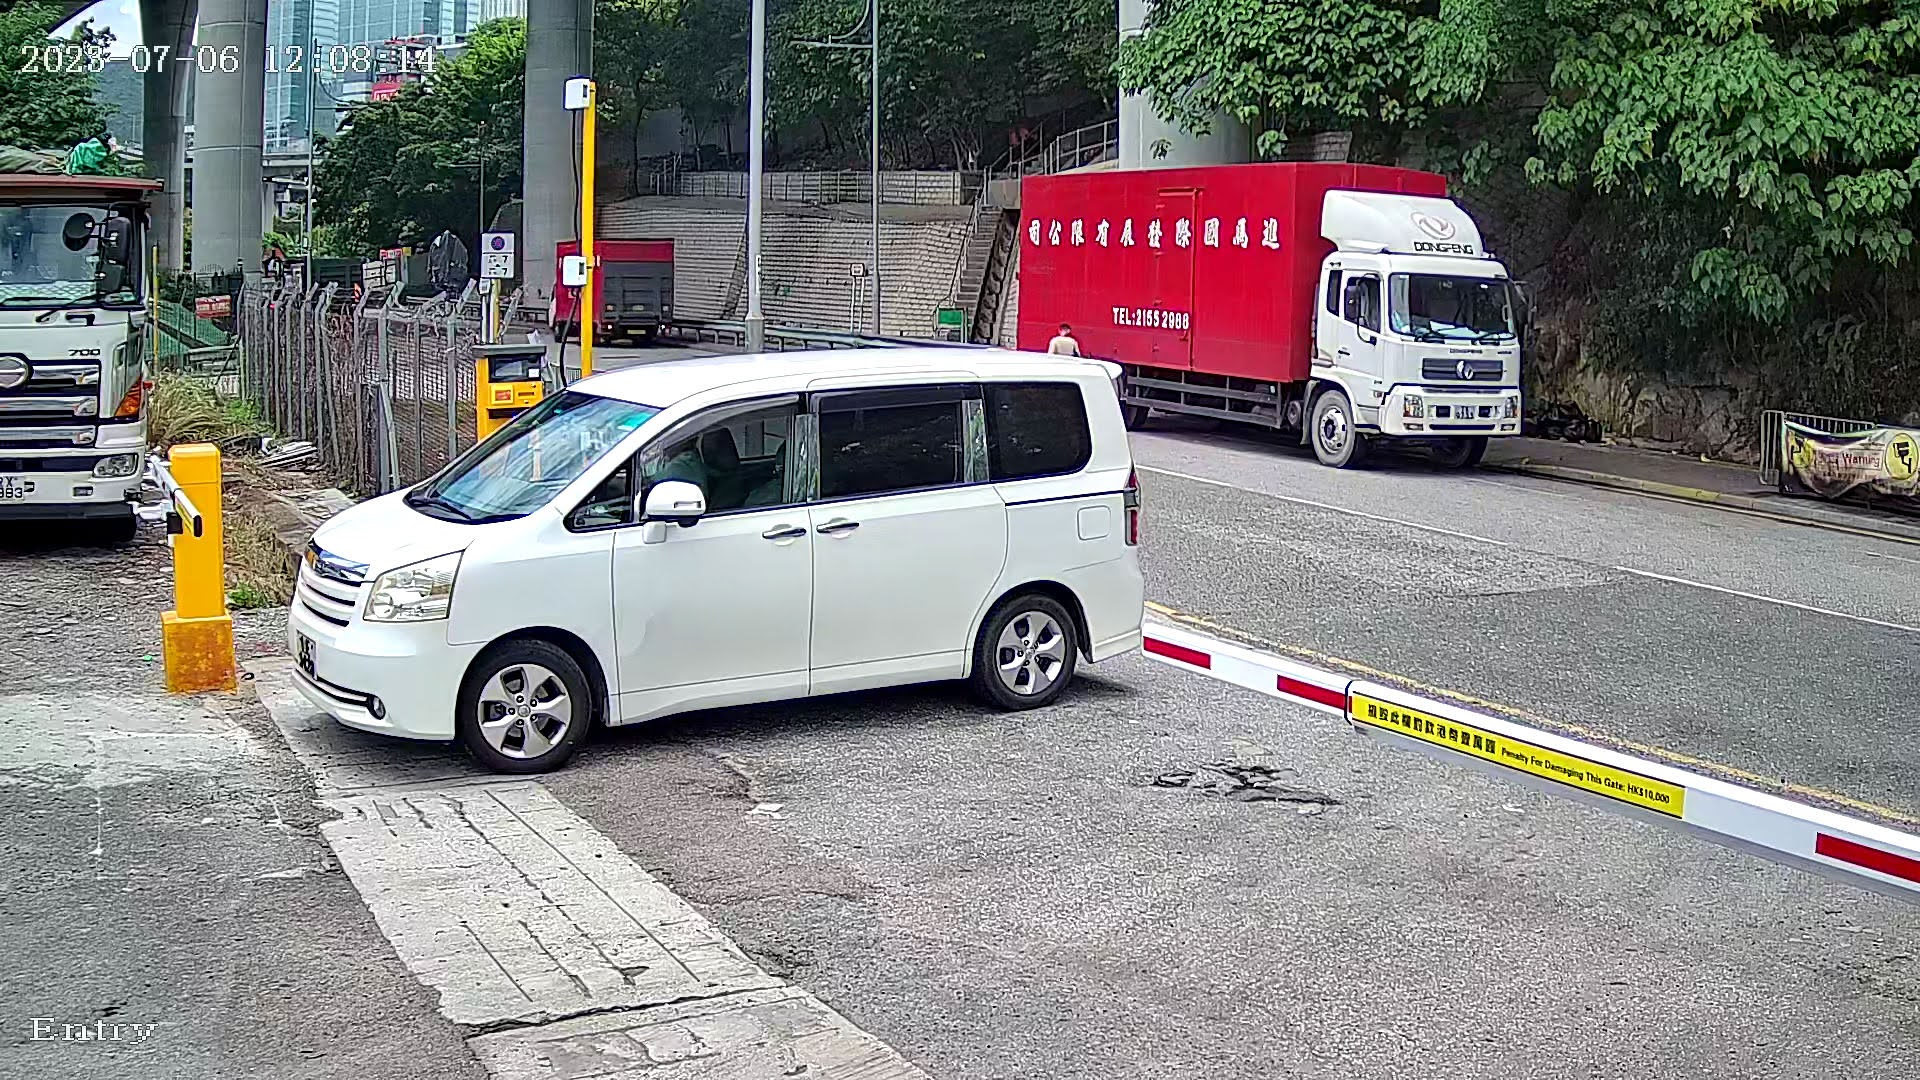privatecar: (236, 295, 1222, 853)
